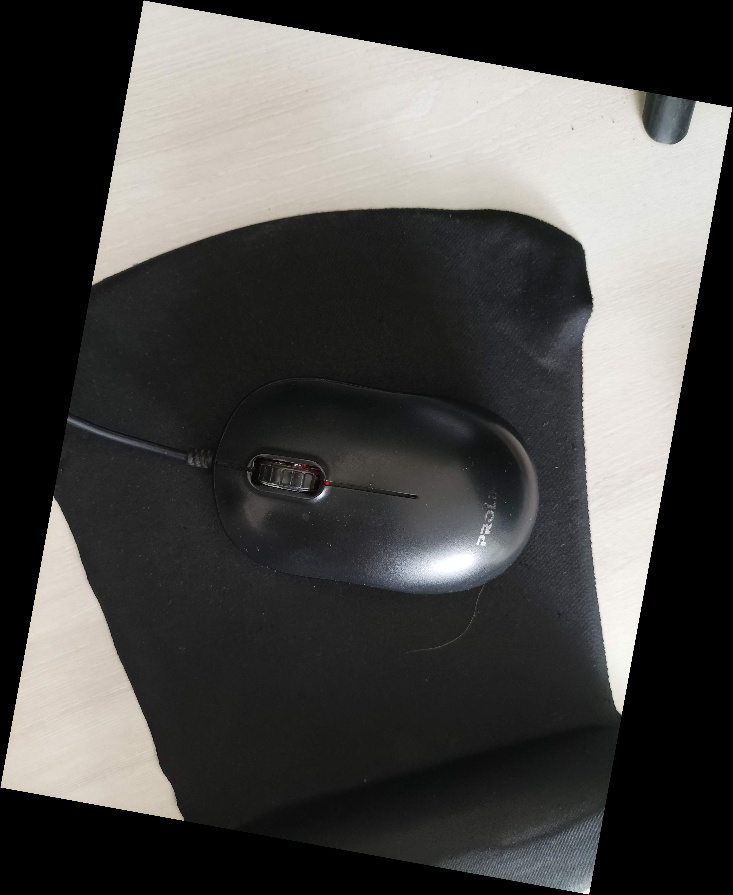mouse: (209, 368, 543, 600)
